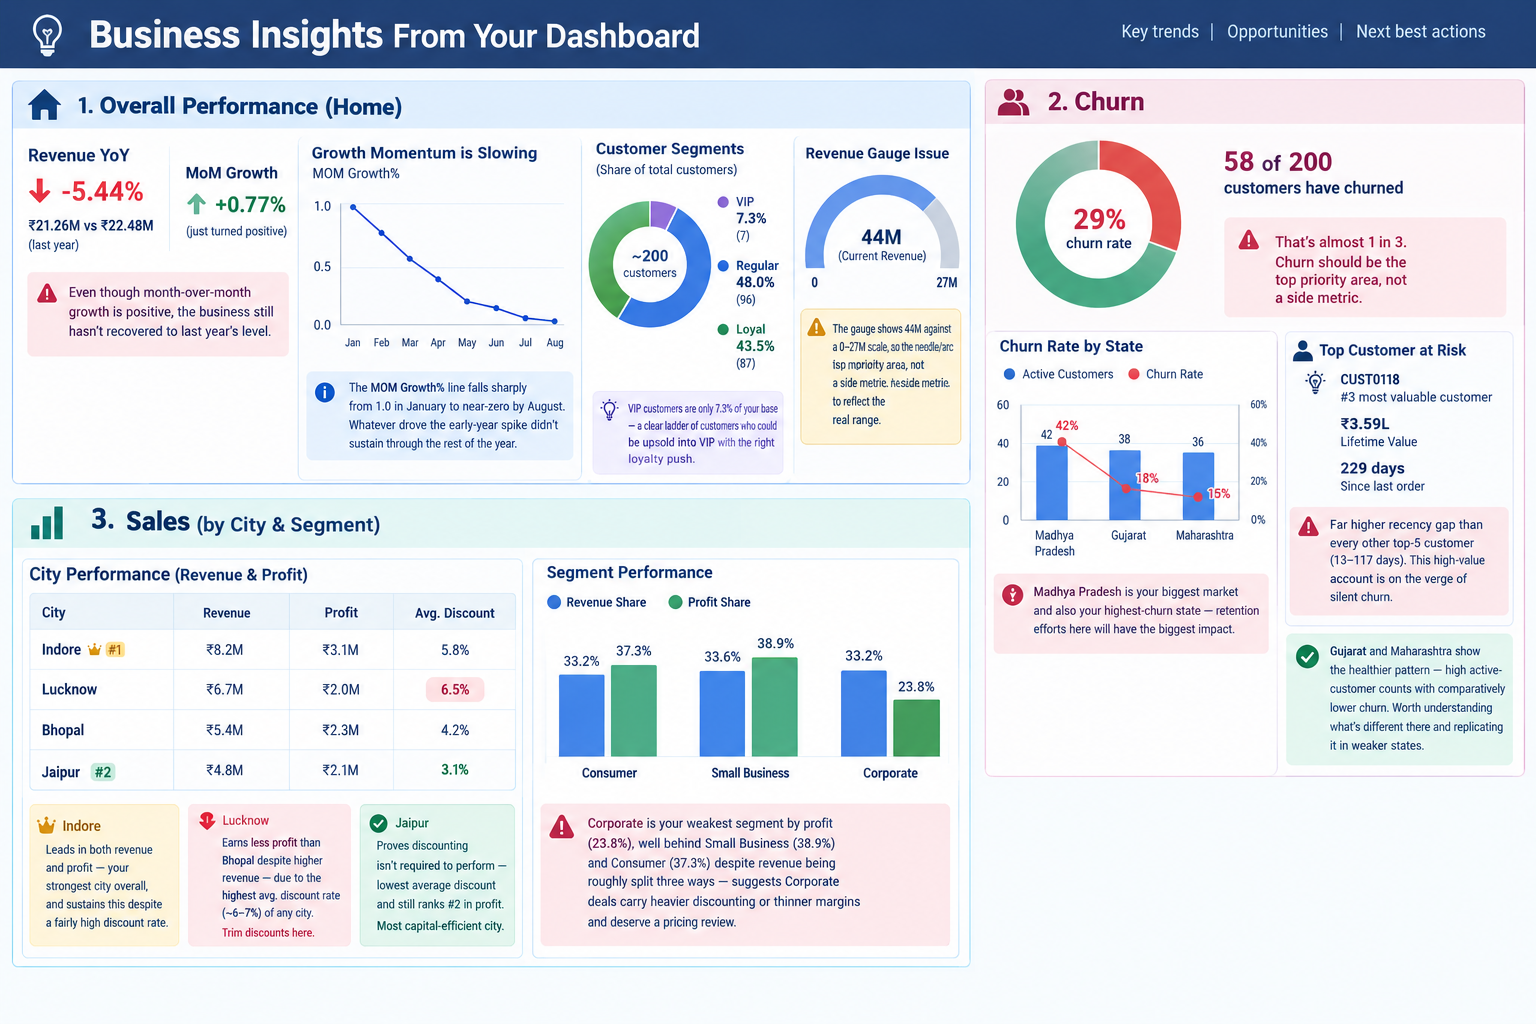

What the dashboard file says about the page in this screenshot:
{"tool":"powerbi","page":{"name":"insights","canvas":[1280,720],"ordinal":4},"visuals":[{"type":"image","box":[8.6,12.3,1271.2,708],"z":0}]}

Visuals, with their boxes on the page's 1280x720 design canvas (x1, y1, x2, y2). These are canvas units, not pixel positions in the 1536x1024 screenshot, which may show the page scaled, cropped or inside an application window:
image: left=9, top=12, right=1280, bottom=720
